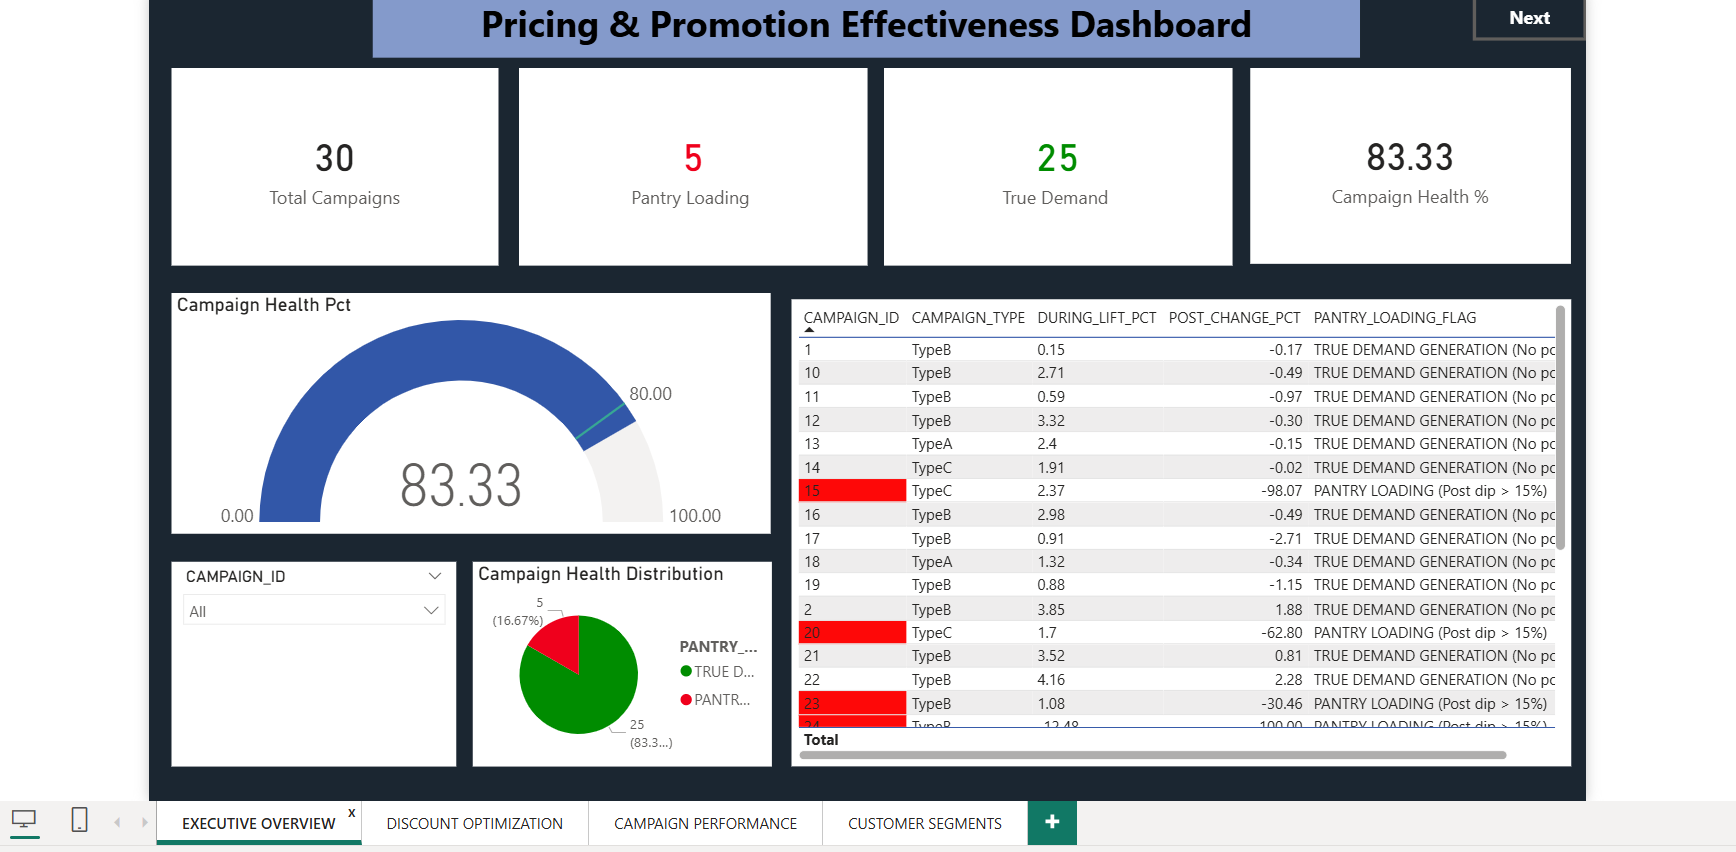

Layout of this report page (visuals, bound fields, positions):
{"tool":"powerbi","page":{"name":"EXECUTIVE OVERVIEW","canvas":[1280,720],"ordinal":0},"visuals":[{"type":"textbox","box":[199,0,879.6,57.6],"z":0},{"type":"card","fields":{"Values":["CountNonNull(mart_pantry_loading.CAMPAIGN_ID)"]},"box":[20.6,67.2,290.9,175.6],"z":1000},{"type":"card","fields":{"Values":["mart_pantry_loading.Pantry Loading Count"]},"box":[329.3,67.2,310.1,175.6],"z":2000},{"type":"card","fields":{"Values":["mart_pantry_loading.True Demand Count"]},"box":[654.5,67.2,310.1,175.6],"z":3000},{"type":"card","fields":{"Values":["mart_pantry_loading.Campaign Health Pct"]},"box":[981.1,67.2,285.4,174.3],"z":4000},{"type":"gauge","fields":{"Y":["mart_pantry_loading.Campaign Health Pct"]},"box":[20.6,267.6,533.8,214.1],"z":5000},{"type":"pieChart","title":"Campaign Health Distribution","fields":{"Category":["mart_pantry_loading.PANTRY_LOADING_FLAG"],"Y":["CountNonNull(mart_pantry_loading.CAMPAIGN_ID)"]},"box":[288.2,506.3,266.2,182.5],"z":6000},{"type":"slicer","fields":{"Values":["mart_pantry_loading.CAMPAIGN_ID"]},"box":[20.6,506.3,253.9,182.5],"z":7000},{"type":"tableEx","fields":{"Values":["mart_pantry_loading.CAMPAIGN_ID","mart_pantry_loading.CAMPAIGN_TYPE","mart_pantry_loading.DURING_LIFT_PCT","mart_pantry_loading.POST_CHANGE_PCT","mart_pantry_loading.PANTRY_LOADING_FLAG"]},"box":[572.2,273.1,694.3,415.8],"z":8000},{"type":"actionButton","box":[1178.7,0,101.5,42.5],"z":9000}]}

Visuals, with their boxes in screenshot pixels (x1, y1, x2, y2):
textbox: 368 0 1356 51
card - CountNonNull(mart_pantry_loading.CAMPAIGN_ID): 168 62 494 259
card - mart_pantry_loading.Pantry Loading Count: 514 62 863 259
card - mart_pantry_loading.True Demand Count: 880 62 1228 259
card - mart_pantry_loading.Campaign Health Pct: 1246 62 1567 258
gauge - mart_pantry_loading.Campaign Health Pct: 168 287 767 527
"Campaign Health Distribution" pieChart: 468 555 767 760
slicer - mart_pantry_loading.CAMPAIGN_ID: 168 555 453 760
tableEx - mart_pantry_loading.CAMPAIGN_ID x mart_pantry_loading.CAMPAIGN_TYPE: 787 293 1567 760
actionButton: 1468 0 1582 34
